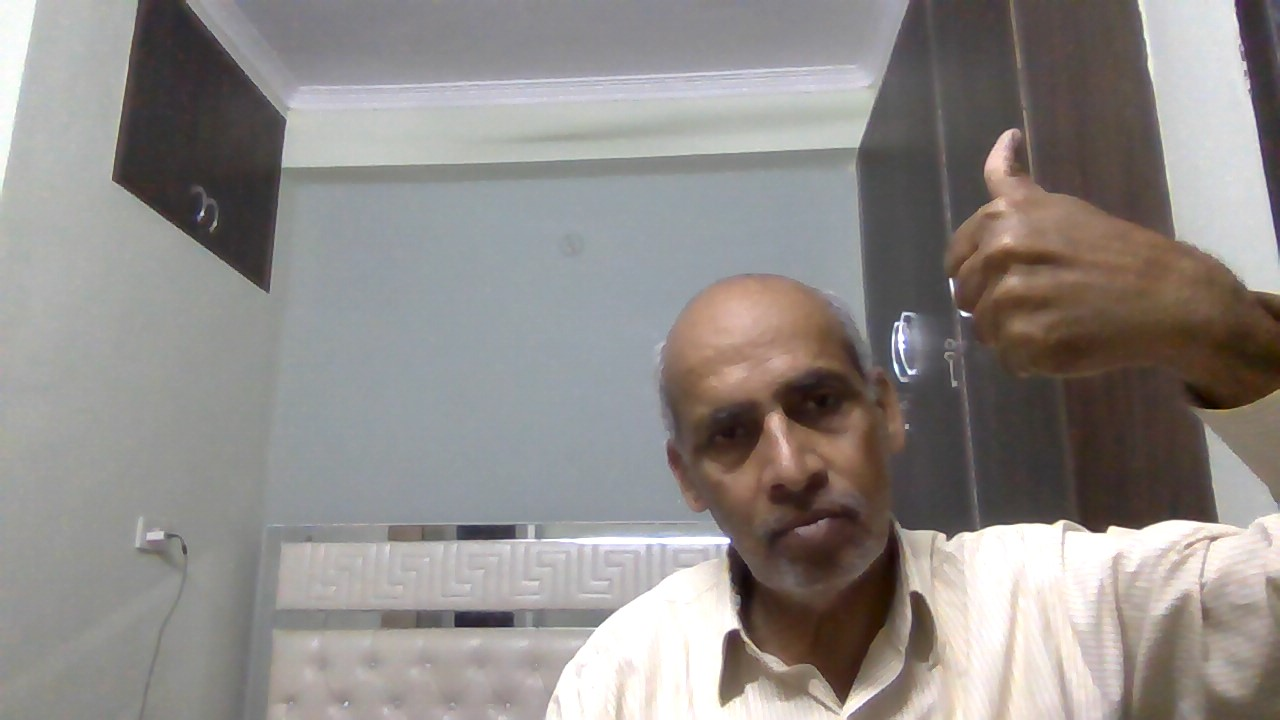Save: (926, 117, 1208, 389)
